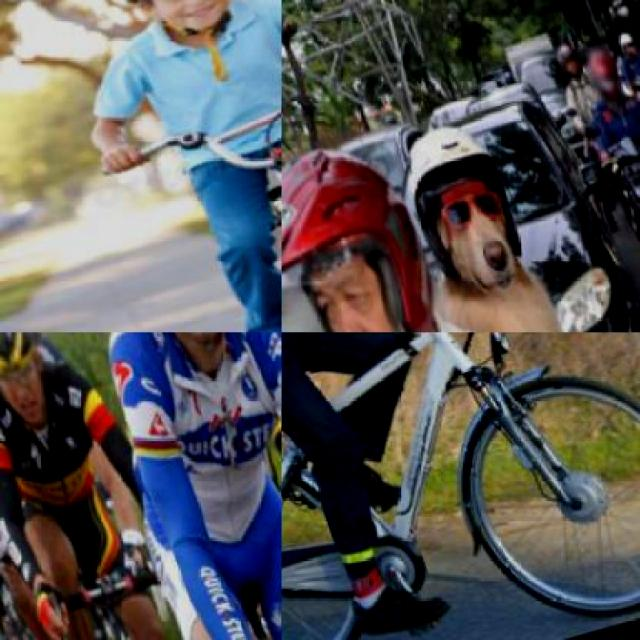With Helmet: (282, 123, 472, 331), (92, 0, 267, 35), (0, 332, 62, 408), (576, 41, 629, 108), (549, 36, 585, 81), (612, 26, 638, 65)
